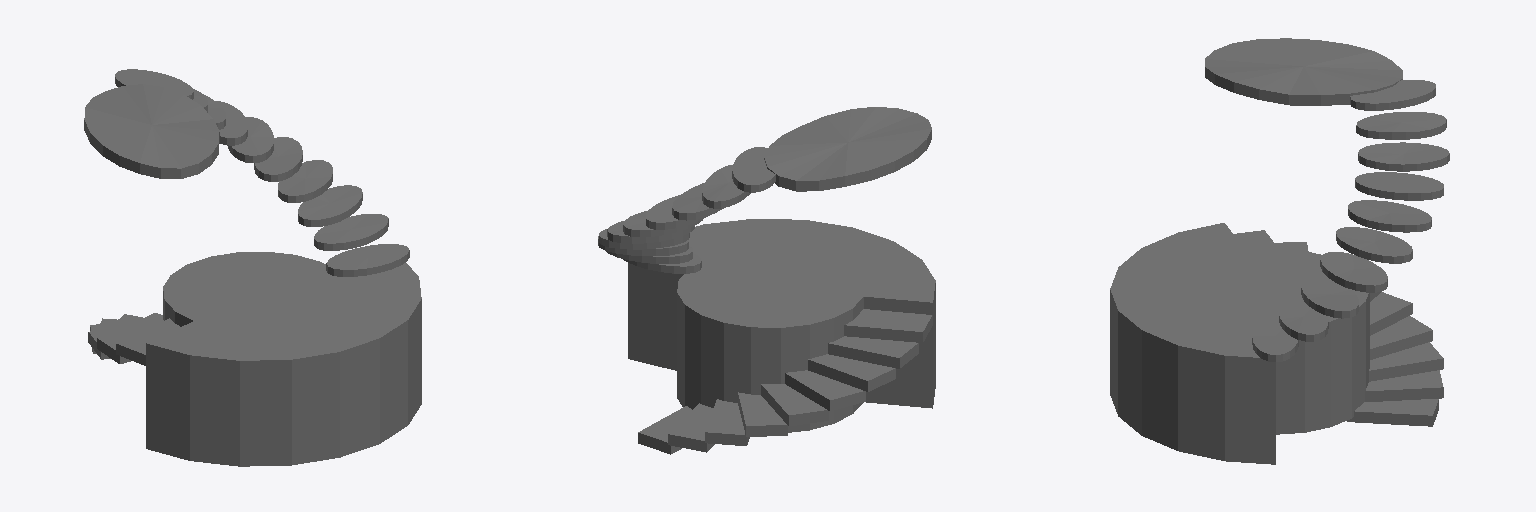
The model's file is Trappen.obj.
The picture shows the model from 3 angles: view 1: azimuth 30°, elevation 25°; view 2: azimuth 150°, elevation 25°; view 3: azimuth 270°, elevation 25°; orthographic projection.
Parts seen in each view (by area): view 1: pCylinder17, pCylinder16, pCylinder6, pCylinder7, pCylinder8, pCylinder9, pCylinder10, pCylinder11, pCube1, pCylinder15, pCylinder12, pCube2; view 2: pCylinder17, pCylinder16, pCube1, pCube2, pCube3, pCube4, pCube5, pCube6, pCube7, pCylinder15, pCube8, pCylinder14 (+9 smaller); view 3: pCylinder17, pCylinder16, pCylinder13, pCylinder14, pCylinder11, pCylinder12, pCylinder10, pCylinder9, pCube9, pCube8, pCube7, pCylinder8 (+6 smaller).
Boxes of the visible parts, box(x1,y1,x2,y2) form: pCylinder17: box(146, 252, 421, 466); pCylinder16: box(84, 84, 219, 178); pCylinder6: box(326, 244, 409, 276); pCylinder7: box(314, 214, 388, 250); pCylinder8: box(298, 185, 362, 226); pCylinder9: box(278, 160, 332, 202); pCylinder10: box(254, 137, 302, 181); pCylinder11: box(227, 117, 273, 162); pCube1: box(116, 318, 179, 365); pCylinder15: box(115, 69, 193, 99); pCylinder12: box(216, 101, 247, 145); pCube2: box(97, 320, 163, 363); pCylinder17: box(628, 219, 935, 432); pCylinder16: box(764, 107, 931, 191); pCube1: box(844, 309, 932, 342); pCube2: box(828, 336, 918, 368); pCube3: box(808, 354, 895, 391); pCube4: box(785, 370, 865, 410); pCube5: box(761, 384, 828, 426); pCube6: box(738, 392, 787, 436); pCube7: box(705, 399, 749, 445); pCylinder15: box(732, 147, 775, 192); pCube8: box(668, 403, 714, 452); pCylinder14: box(702, 165, 750, 208); pCylinder17: box(1110, 223, 1369, 464); pCylinder16: box(1205, 38, 1402, 105); pCylinder13: box(1358, 142, 1449, 171); pCylinder14: box(1356, 112, 1446, 139); pCylinder11: box(1348, 200, 1431, 232); pCylinder12: box(1355, 172, 1443, 200); pCylinder10: box(1336, 227, 1412, 263); pCylinder9: box(1320, 252, 1387, 292); pCube9: box(1347, 399, 1438, 426); pCube8: box(1365, 370, 1443, 401); pCube7: box(1369, 342, 1443, 381); pCylinder8: box(1301, 276, 1358, 318).
Bounding box in the file's own units: 9.27 × 8.55 × 9.1.